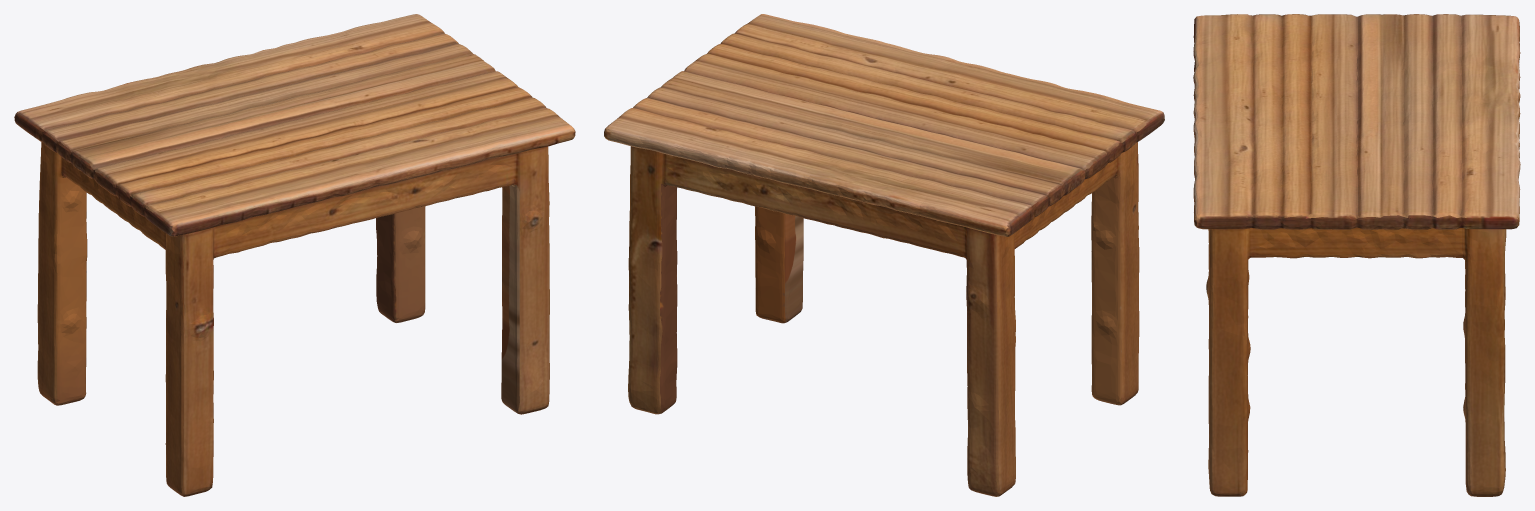
Rendered from mdl_table_001.glb.
The picture shows the model from 3 angles, left to right: view 1: azimuth 30°, elevation 25°; view 2: azimuth 150°, elevation 25°; view 3: azimuth 270°, elevation 25°; orthographic projection. The views are drawn at different scales.
Visible parts, largest first — view 1: tmpdg7p1p5a.ply; view 2: tmpdg7p1p5a.ply; view 3: tmpdg7p1p5a.ply.
Boxes of the visible parts, box(x1,y1,x2,y2) form: tmpdg7p1p5a.ply: box(14, 14, 575, 496); tmpdg7p1p5a.ply: box(604, 14, 1164, 496); tmpdg7p1p5a.ply: box(1193, 14, 1520, 496).
Bounding box in the file's own units: 0.9899 × 0.6673 × 0.6724.
1 material, 1 textured.
